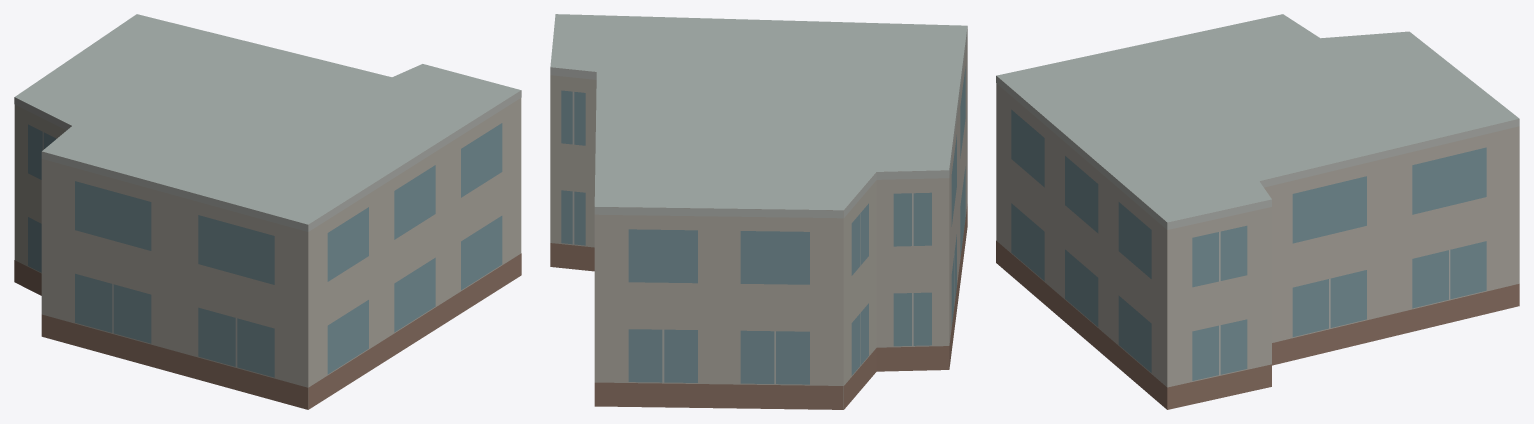
The model's file is survey-upis-32680793.glb.
The picture shows the model from 3 angles, left to right: view 1: azimuth 30°, elevation 25°; view 2: azimuth 150°, elevation 25°; view 3: azimuth 270°, elevation 25°; orthographic projection. The views are drawn at different scales.
Visible parts, largest first — view 1: survey-upis-32680793.tmp; view 2: survey-upis-32680793.tmp; view 3: survey-upis-32680793.tmp.
Boxes of the visible parts, x1,y1,x2,y2 form: survey-upis-32680793.tmp: (14,14,521,409); survey-upis-32680793.tmp: (550,14,967,409); survey-upis-32680793.tmp: (996,14,1519,409).
Size of the model in its own units: 14.57 by 6.1 by 15.46.
